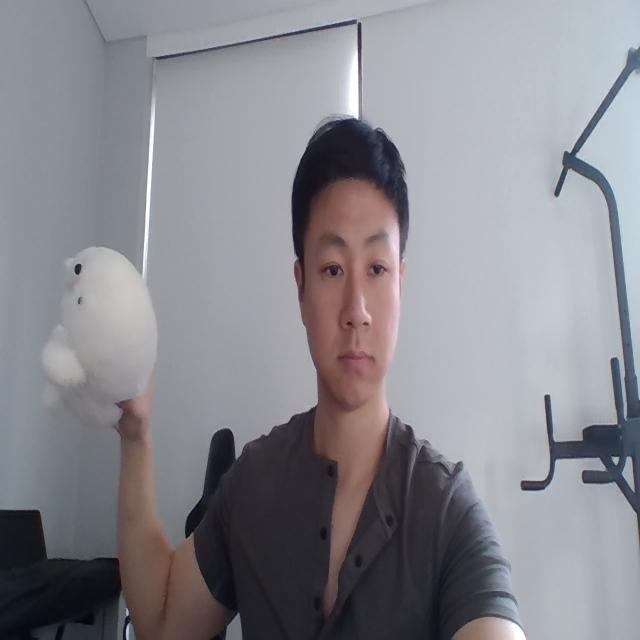seal_bb: (39, 246, 158, 431)
